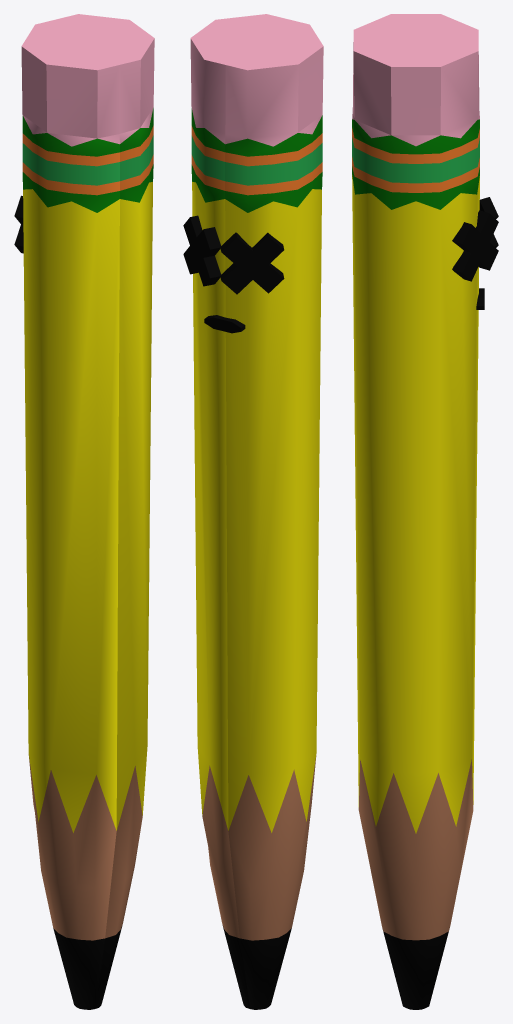
The model's file is Ded_PencilModel2.fbx.
3 views of the same model, side by side, from view 1: azimuth 30°, elevation 25°; view 2: azimuth 150°, elevation 25°; view 3: azimuth 270°, elevation 25° (orthographic).
Visible parts, largest first — view 1: Ded Pencil; view 2: Ded Pencil; view 3: Ded Pencil.
Part boxes in pixels (x1,y1,x2,y2): Ded Pencil: (14, 14, 154, 1009); Ded Pencil: (183, 14, 323, 1009); Ded Pencil: (352, 14, 498, 1009).
Size of the model in its own units: 45.87 by 40 by 332.
